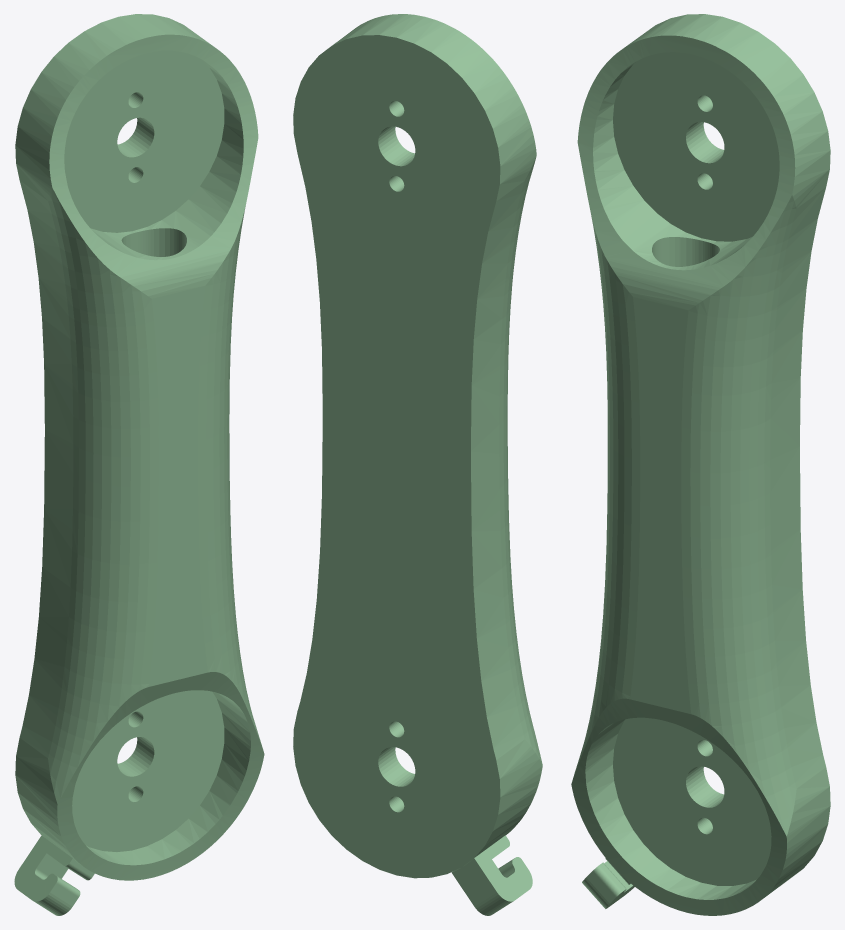
File: case-01_lib00004.glb
3 views of the same model, side by side, from view 1: azimuth 30°, elevation 25°; view 2: azimuth 150°, elevation 25°; view 3: azimuth 330°, elevation 25° (orthographic). The views are drawn at different scales.
Visible parts, largest first — view 1: lib00004; view 2: lib00004; view 3: lib00004.
Part boxes in pixels (<box>): lib00004: <box>14,14,264,915</box>; lib00004: <box>293,14,542,915</box>; lib00004: <box>571,14,830,915</box>.
Size of the model in its own units: 20.23 by 78 by 9.83.
